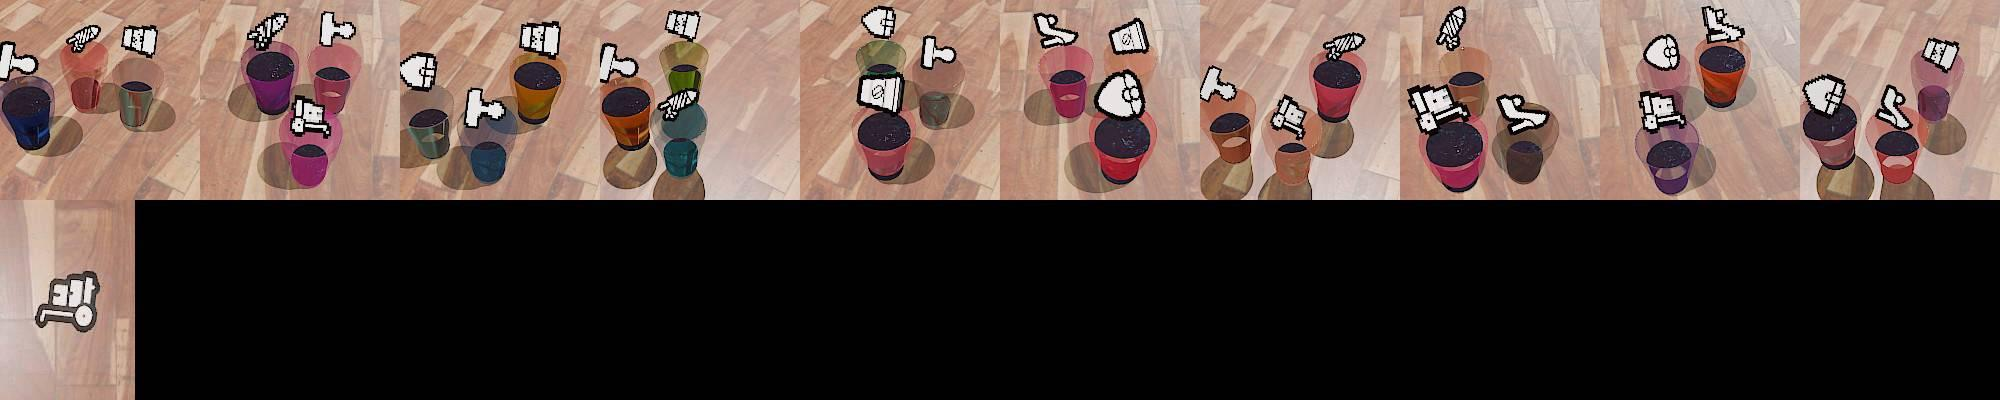icon: (32, 270, 102, 332), (1407, 82, 1468, 134), (1093, 68, 1148, 120), (856, 70, 907, 115), (1495, 92, 1548, 134), (1801, 74, 1848, 117), (1638, 90, 1686, 132), (463, 85, 508, 129), (1270, 92, 1310, 139), (1702, 4, 1746, 45), (290, 94, 332, 136), (597, 42, 639, 84), (1107, 17, 1151, 57), (246, 11, 290, 52), (1875, 83, 1912, 130), (1033, 11, 1077, 50), (519, 20, 562, 59), (0, 41, 38, 82), (658, 87, 702, 122), (399, 52, 437, 92), (1435, 5, 1467, 51), (319, 10, 357, 48), (1320, 32, 1367, 61), (1199, 65, 1235, 103), (1643, 34, 1681, 70), (1920, 37, 1959, 71), (921, 34, 957, 71), (121, 24, 159, 59), (861, 5, 899, 39), (663, 9, 702, 42), (64, 23, 102, 55)
